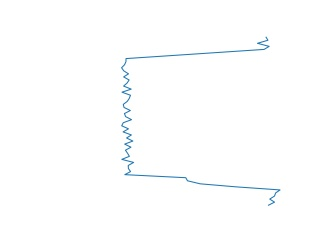distributaryChannelFill: (118, 38, 286, 206)
